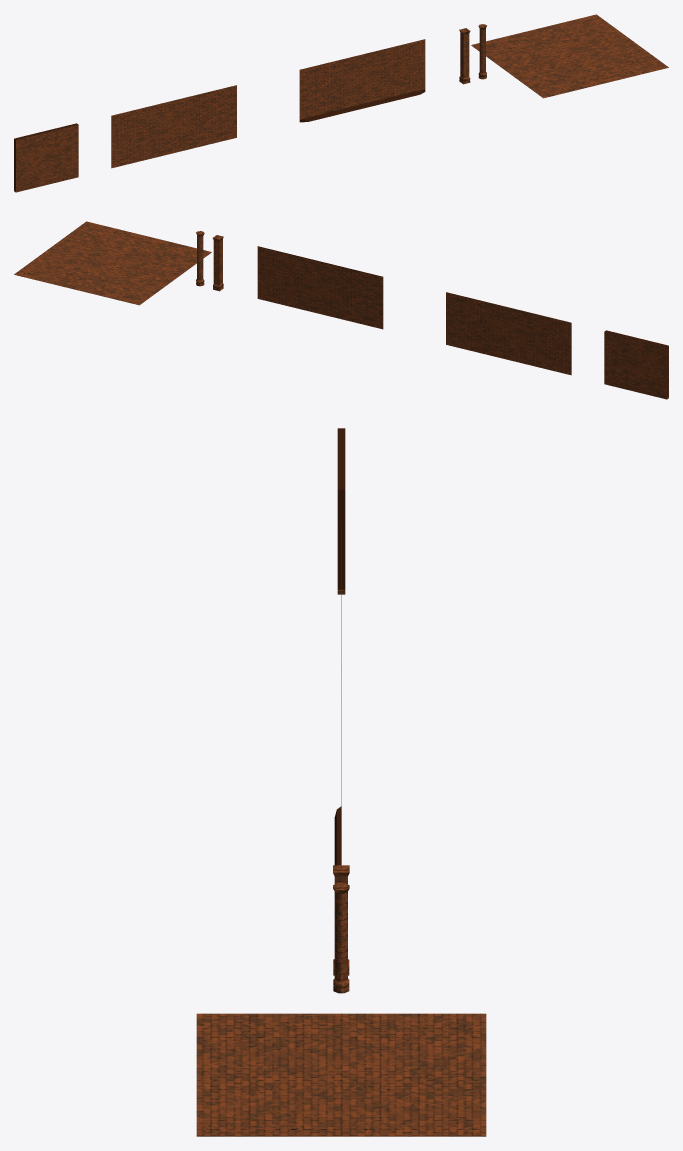
The model's file is wall_2.fbx.
3 views of the same model, one above another, from view 1: azimuth 30°, elevation 25°; view 2: azimuth 150°, elevation 25°; view 3: azimuth 270°, elevation 25° (orthographic). The views are drawn at different scales.
Parts seen in each view (by area): view 1: BrickFloor, BrickWall_1, BrickWall_2, BrickShortWall, Brickpiller_1, Brickpiller_2; view 2: BrickFloor, BrickWall_1, BrickWall_2, BrickShortWall, Brickpiller_1, Brickpiller_2; view 3: BrickFloor, Brickpiller_2, BrickShortWall.
Part boxes in pixels (<box>): BrickFloor: <box>471,14,668,98</box>; BrickWall_1: <box>299,39,425,122</box>; BrickWall_2: <box>111,85,236,168</box>; BrickShortWall: <box>14,123,78,192</box>; Brickpiller_1: <box>459,28,470,84</box>; Brickpiller_2: <box>478,24,486,79</box>; BrickFloor: <box>14,221,211,305</box>; BrickWall_1: <box>257,246,383,329</box>; BrickWall_2: <box>446,292,571,375</box>; BrickShortWall: <box>604,330,668,399</box>; Brickpiller_1: <box>212,235,223,291</box>; Brickpiller_2: <box>196,231,204,286</box>; BrickFloor: <box>196,1013,486,1136</box>; Brickpiller_2: <box>333,883,349,993</box>; BrickShortWall: <box>337,428,345,594</box>.
Size of the model in its own units: 98.42 by 8.01 by 20.
